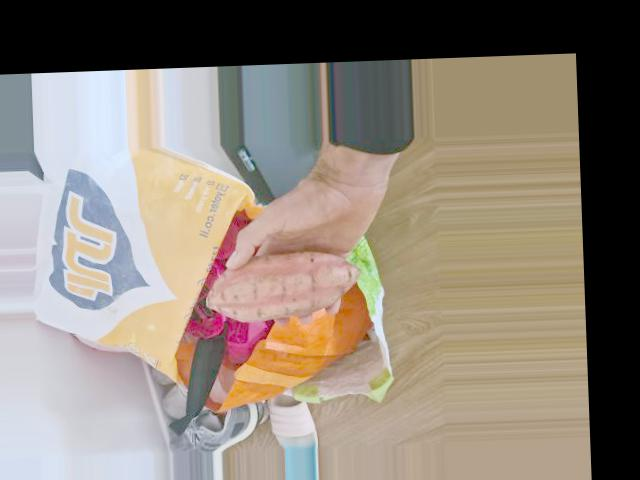sweet_potato: (204, 246, 361, 322)
